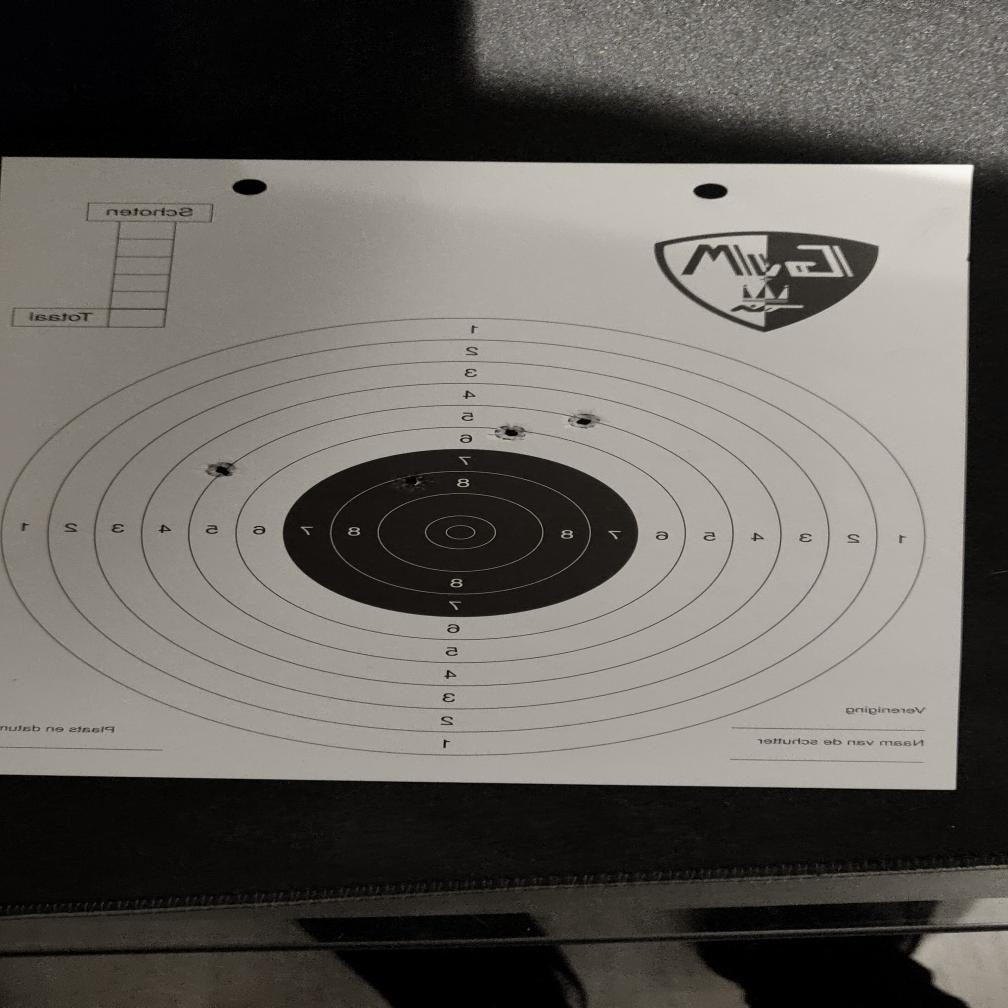5: (560, 408, 608, 431), (199, 458, 243, 479)
6: (486, 423, 532, 443)
8: (385, 471, 434, 494)
Target: (0, 315, 929, 758)
black_contour: (281, 448, 642, 618)
